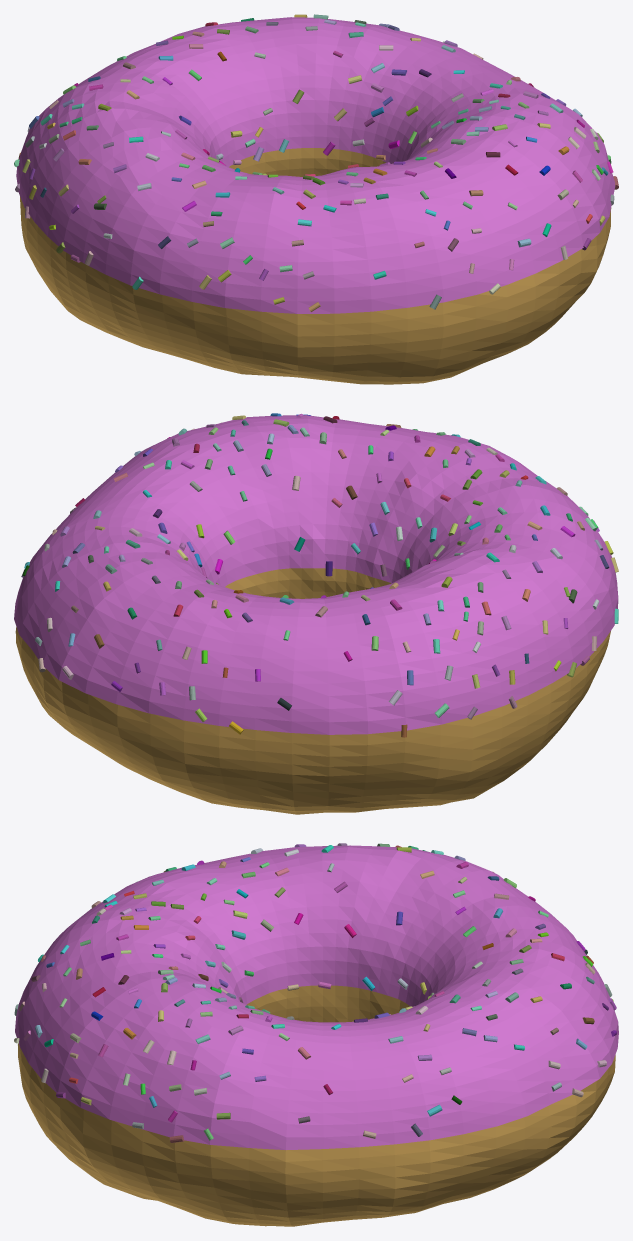
Rendered from donut2.glb.
The picture shows the model from 3 angles, top to bottom: view 1: azimuth 30°, elevation 25°; view 2: azimuth 150°, elevation 25°; view 3: azimuth 270°, elevation 25°; orthographic projection. The views are drawn at different scales.
Visible parts, largest first — view 1: icing_top, defaultobject; view 2: icing_top, defaultobject; view 3: icing_top, defaultobject.
Part boxes in pixels (x1,y1,x2,y2): icing_top: [16, 17, 615, 313]; defaultobject: [14, 14, 618, 384]; icing_top: [14, 415, 618, 734]; defaultobject: [15, 413, 618, 814]; icing_top: [15, 845, 618, 1149]; defaultobject: [14, 843, 616, 1226].
Bounding box in the file's own units: 1.5 × 0.5942 × 1.54.
